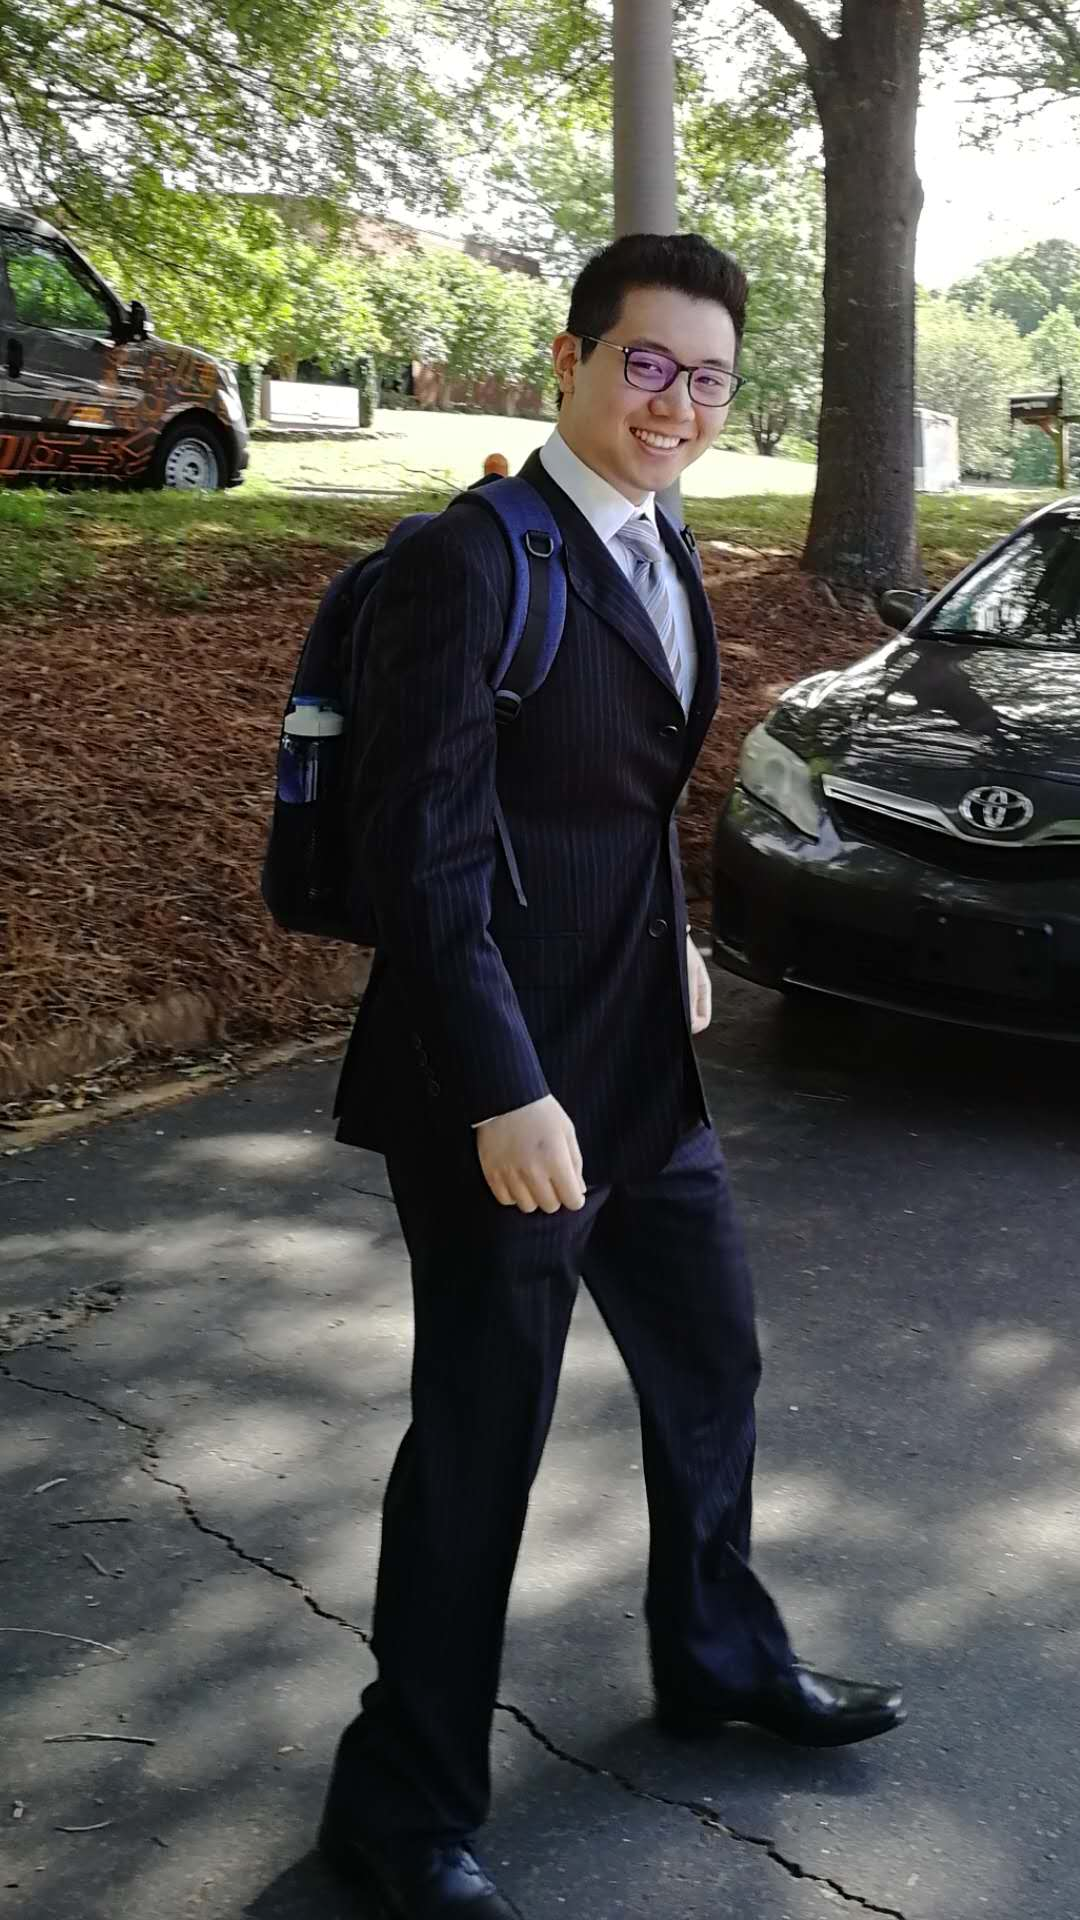pedestrian: (278, 159, 923, 1920)
